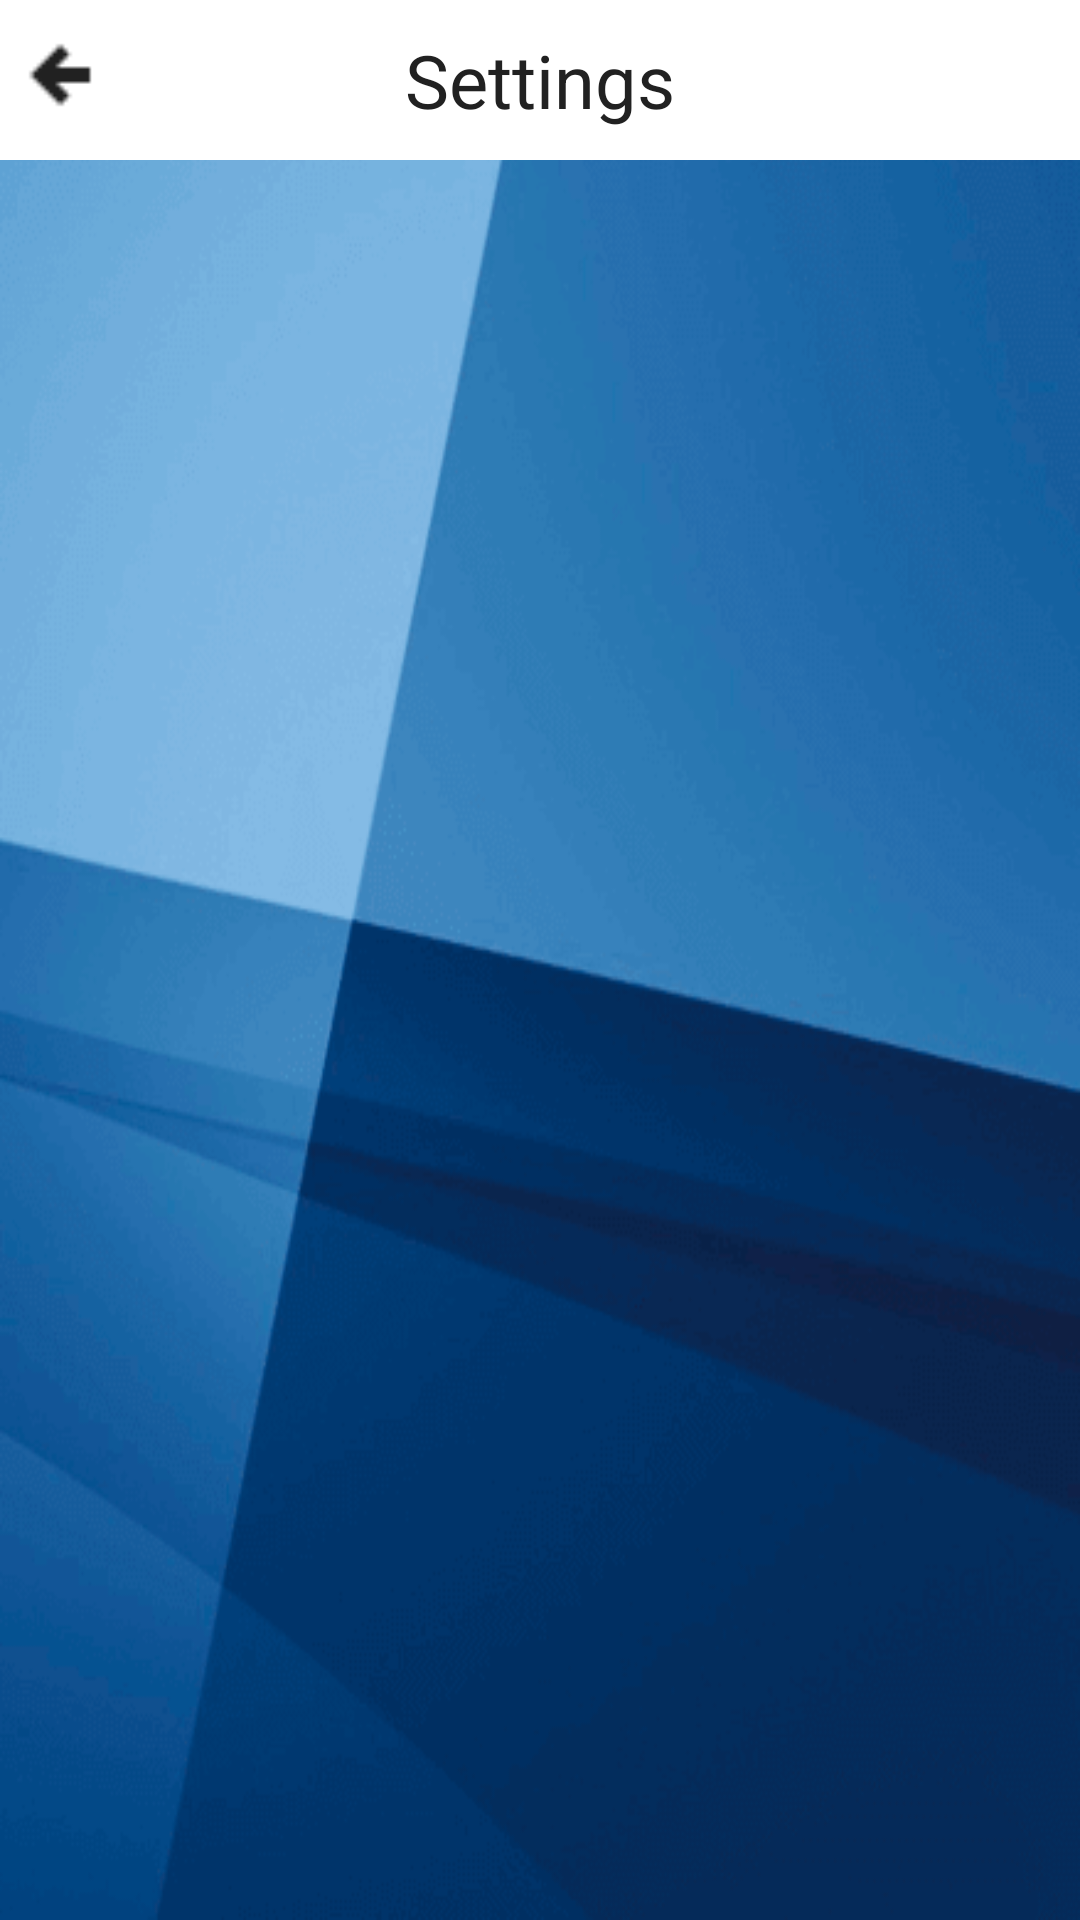

Named icons in this screenshot (1080 × 1920) and their bounding boxes, rect(x1, y1, x2, y2):
back: rect(29, 44, 91, 106)
